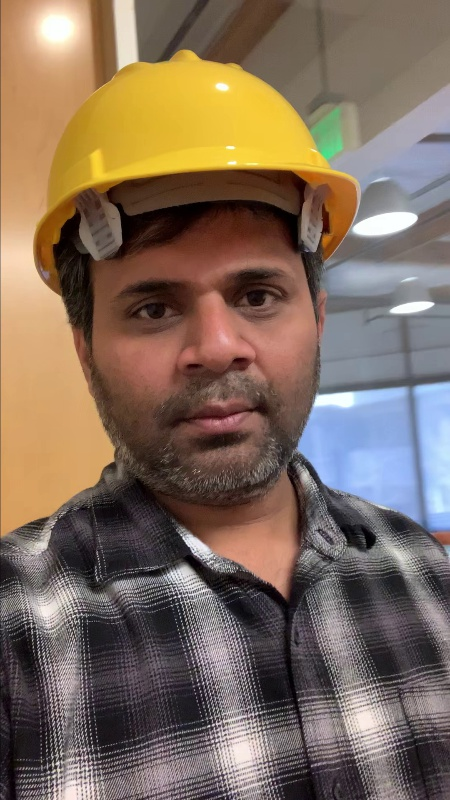helmet: (25, 45, 363, 257)
